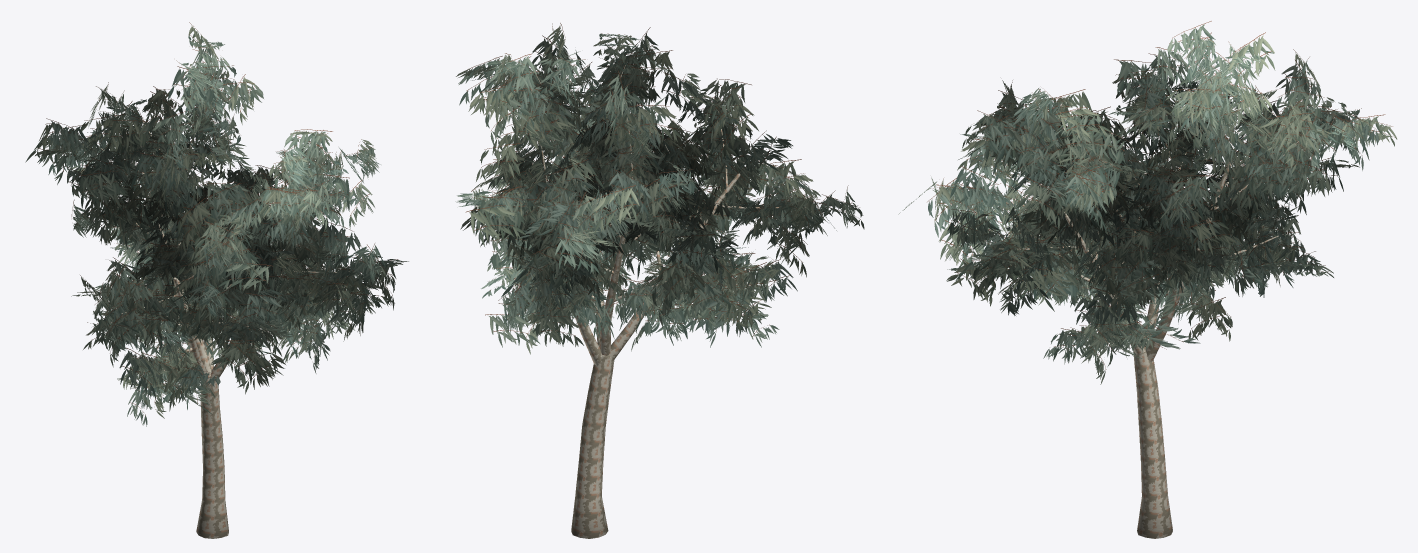
The model's file is eucalyptus.glb.
3 views of the same model, side by side, from view 1: azimuth 30°, elevation 25°; view 2: azimuth 150°, elevation 25°; view 3: azimuth 270°, elevation 25° (orthographic). The views are drawn at different scales.
Visible parts, largest first — view 1: eucalyptus; view 2: eucalyptus; view 3: eucalyptus.
Part boxes in pixels (box(x1,y1,x2,y2)): eucalyptus: box(25, 22, 408, 538); eucalyptus: box(455, 23, 864, 538); eucalyptus: box(898, 21, 1397, 538).
Size of the model in its own units: 20.05 by 26.53 by 23.56.
2 materials, 2 textured.
